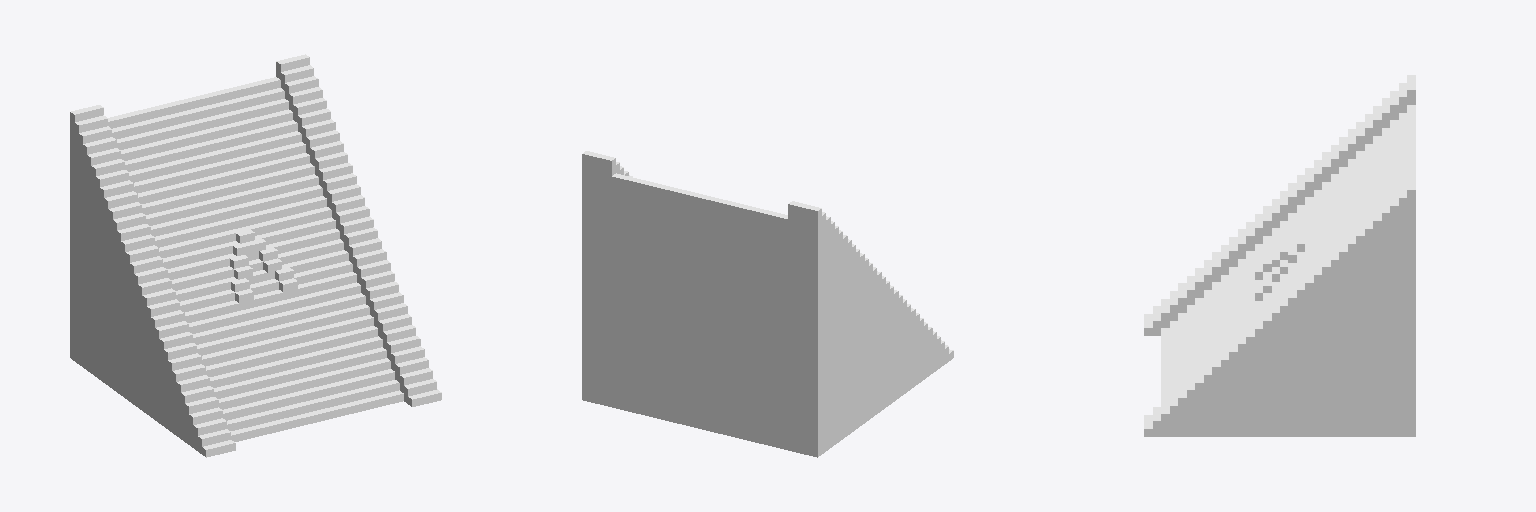
The model's file is tapisDescend.obj.
3 views of the same model, side by side, from view 1: azimuth 30°, elevation 25°; view 2: azimuth 150°, elevation 25°; view 3: azimuth 270°, elevation 25° (orthographic).
Visible parts, largest first — view 1: object 1; view 2: object 1; view 3: object 1.
Boxes of the visible parts, x1,y1,x2,y2 form: object 1: [70, 54, 441, 457]; object 1: [582, 151, 953, 457]; object 1: [1144, 75, 1415, 436].
Size of the model in its own units: 3.2 by 3.2 by 3.2.